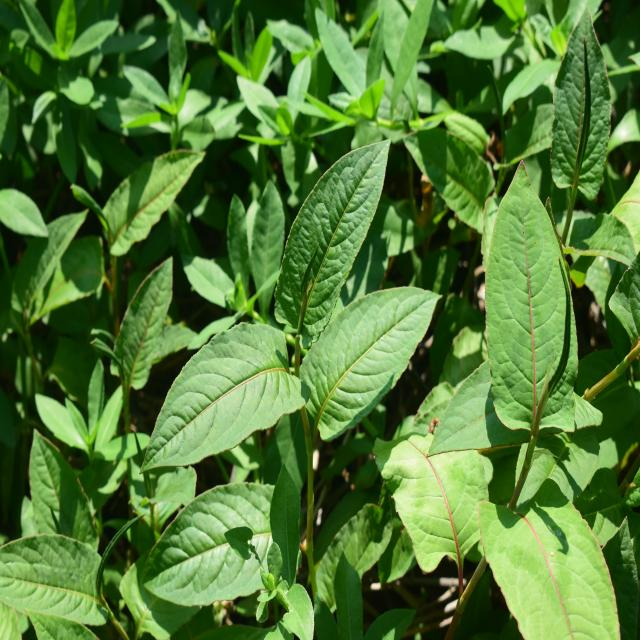Chinese_knotweed: (446, 160, 628, 633), (161, 158, 433, 471)
